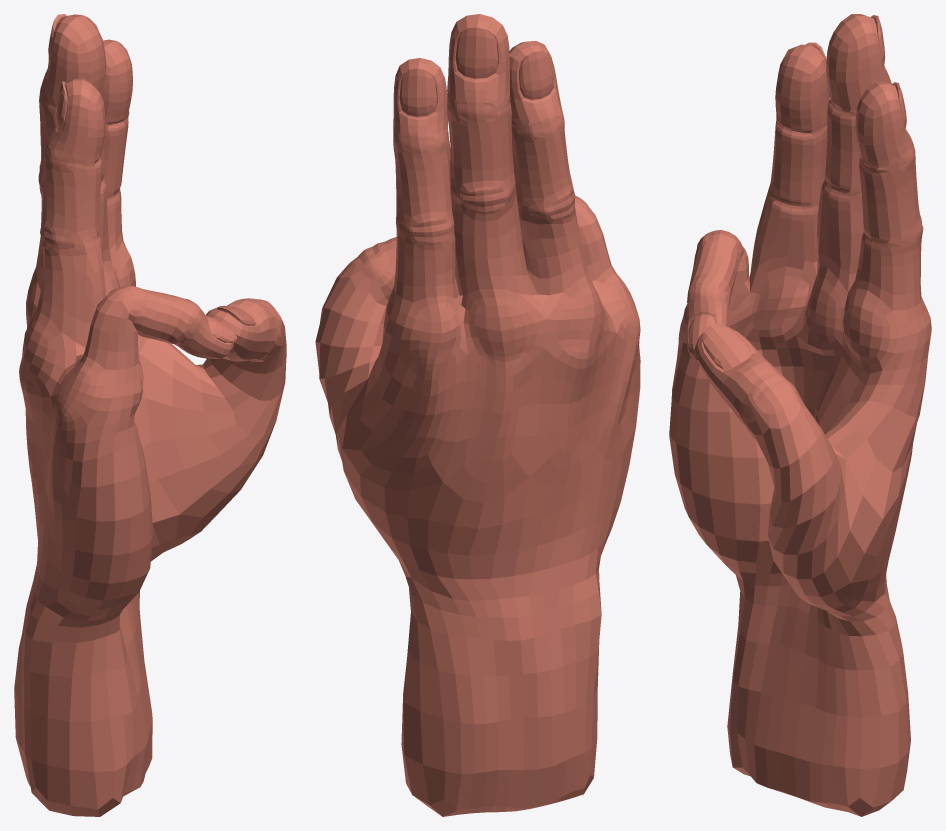
The picture shows the model from 3 angles, left to right: view 1: azimuth 30°, elevation 25°; view 2: azimuth 150°, elevation 25°; view 3: azimuth 270°, elevation 25°; orthographic projection. The views are drawn at different scales.
Parts seen in each view (by area): view 1: ZBrushPolyMesh3D; view 2: ZBrushPolyMesh3D; view 3: ZBrushPolyMesh3D.
Boxes of the visible parts, x1,y1,x2,y2 form: ZBrushPolyMesh3D: [14, 14, 286, 816]; ZBrushPolyMesh3D: [315, 14, 640, 816]; ZBrushPolyMesh3D: [669, 14, 931, 816].
Bounding box in the file's own units: 1.98 × 5.42 × 1.66.
